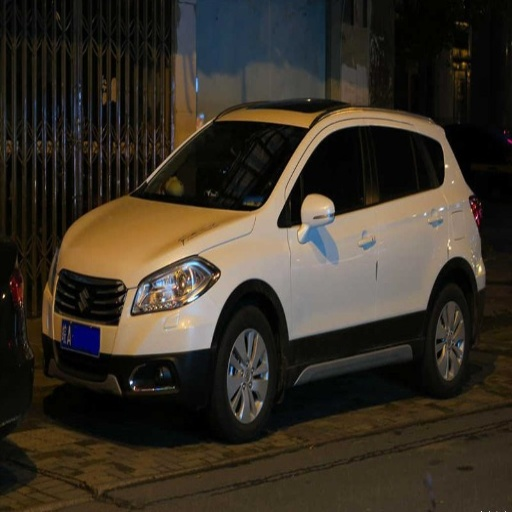back_left_door: (364, 121, 449, 344)
front_bumper: (42, 256, 224, 410)
front_glass: (133, 120, 308, 210)
front_left_door: (289, 120, 376, 364)
